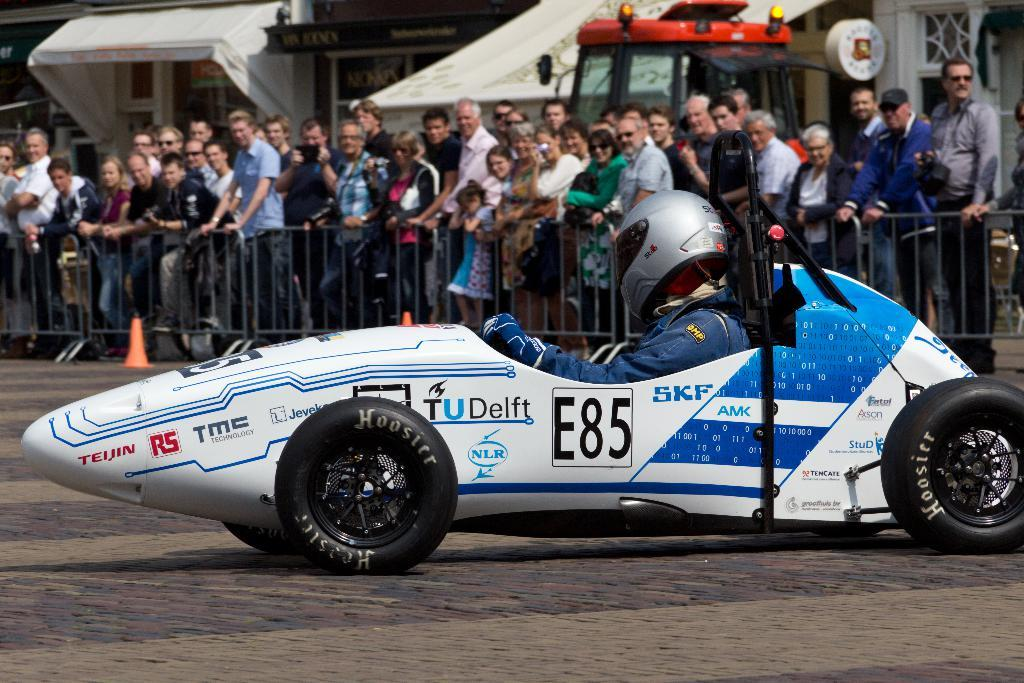helmet: (613, 189, 729, 325)
nohelmet: (877, 87, 912, 133), (940, 57, 975, 103), (742, 109, 777, 154), (800, 123, 834, 168), (706, 93, 739, 138), (614, 116, 648, 159), (685, 94, 716, 138), (453, 96, 483, 139), (336, 118, 368, 158), (559, 118, 590, 158), (299, 116, 329, 157), (421, 105, 451, 146), (508, 121, 537, 162), (534, 123, 563, 164), (647, 104, 676, 145), (389, 129, 419, 168), (227, 109, 256, 149), (352, 99, 384, 135), (849, 86, 879, 124), (587, 128, 616, 166), (158, 150, 185, 190), (541, 98, 571, 134), (263, 112, 291, 150), (454, 183, 484, 218), (485, 144, 514, 180), (97, 154, 125, 190), (125, 150, 151, 188), (24, 126, 49, 165), (157, 126, 184, 162), (46, 157, 72, 194), (492, 99, 518, 135), (203, 139, 229, 173), (130, 131, 156, 163), (188, 116, 213, 149), (183, 138, 208, 170), (0, 140, 18, 175)
